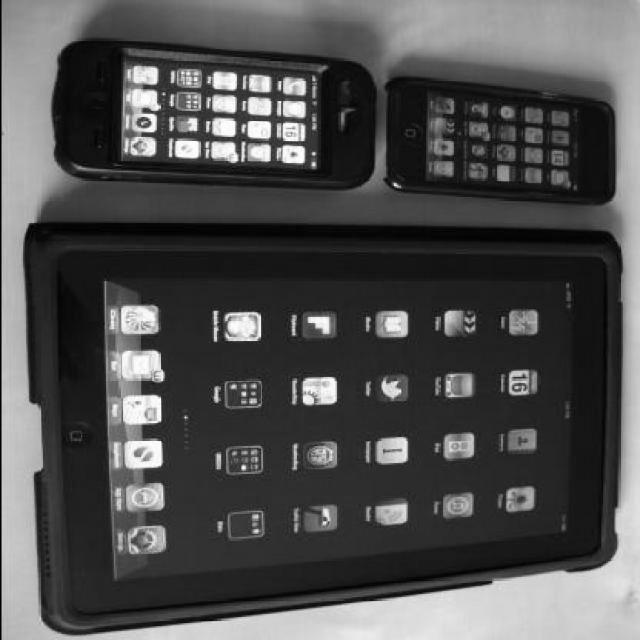fake: (54, 35, 374, 183), (384, 76, 616, 210)
